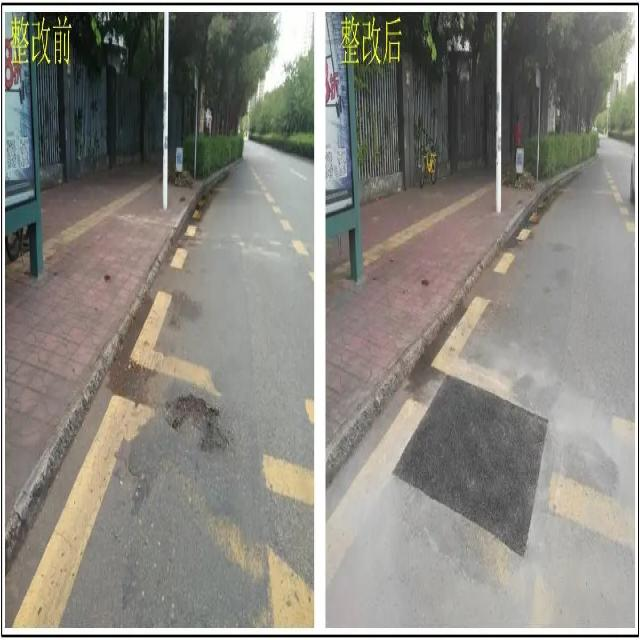Pothole: (162, 389, 232, 474)
